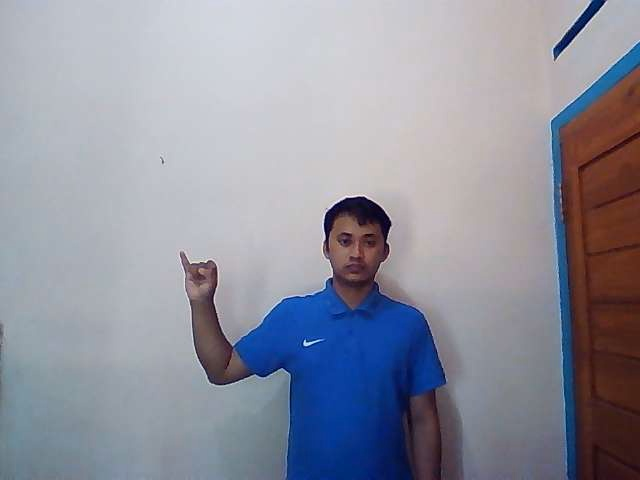I: (178, 250, 217, 301)
